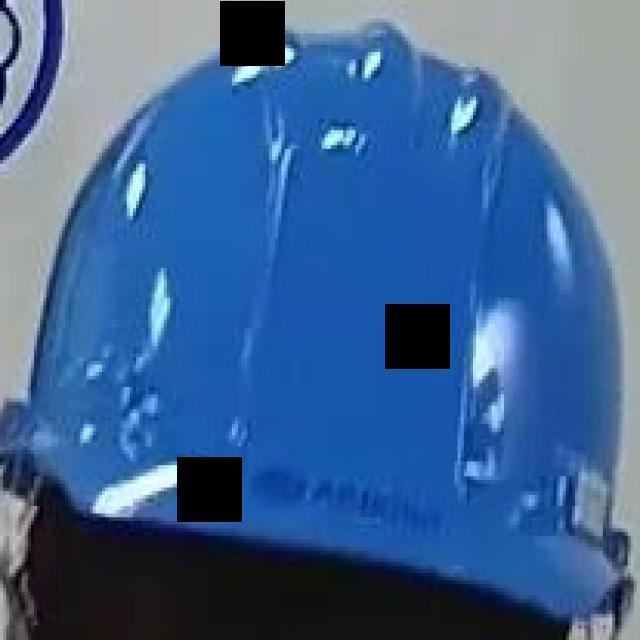blue helmet: (25, 23, 627, 615)
